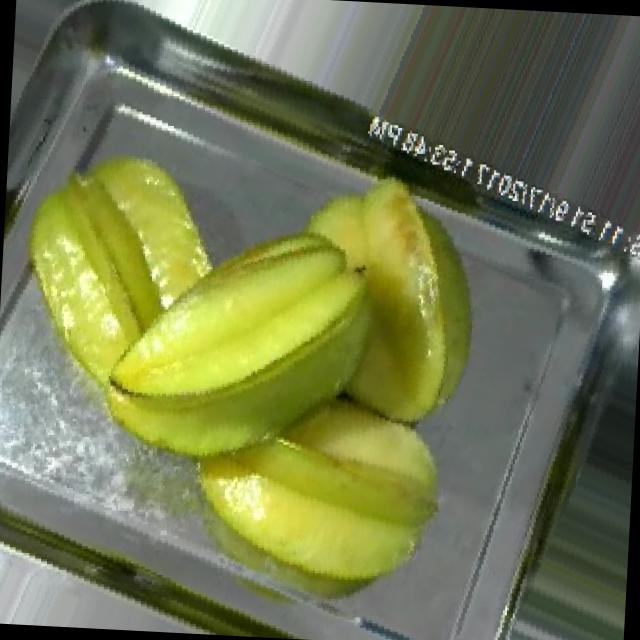fruit: (50, 130, 481, 608), (146, 349, 484, 636), (0, 117, 262, 442)
